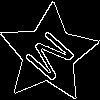M: (23, 29, 84, 90)
